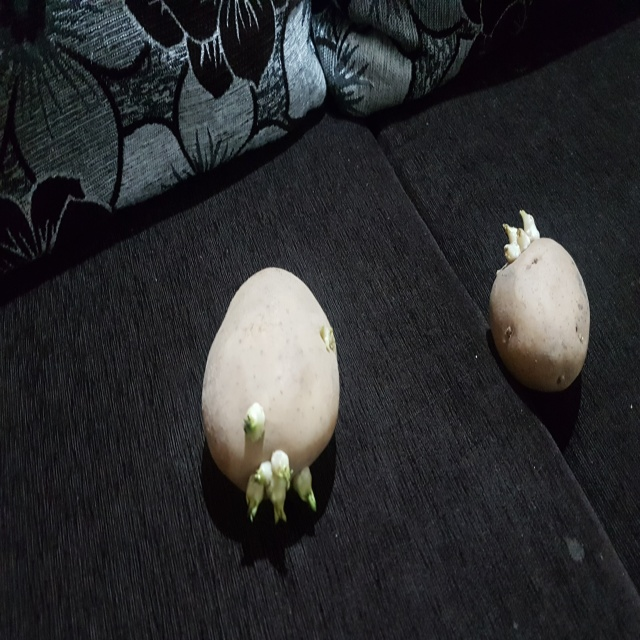potato: (199, 259, 342, 521), (488, 208, 599, 397)
